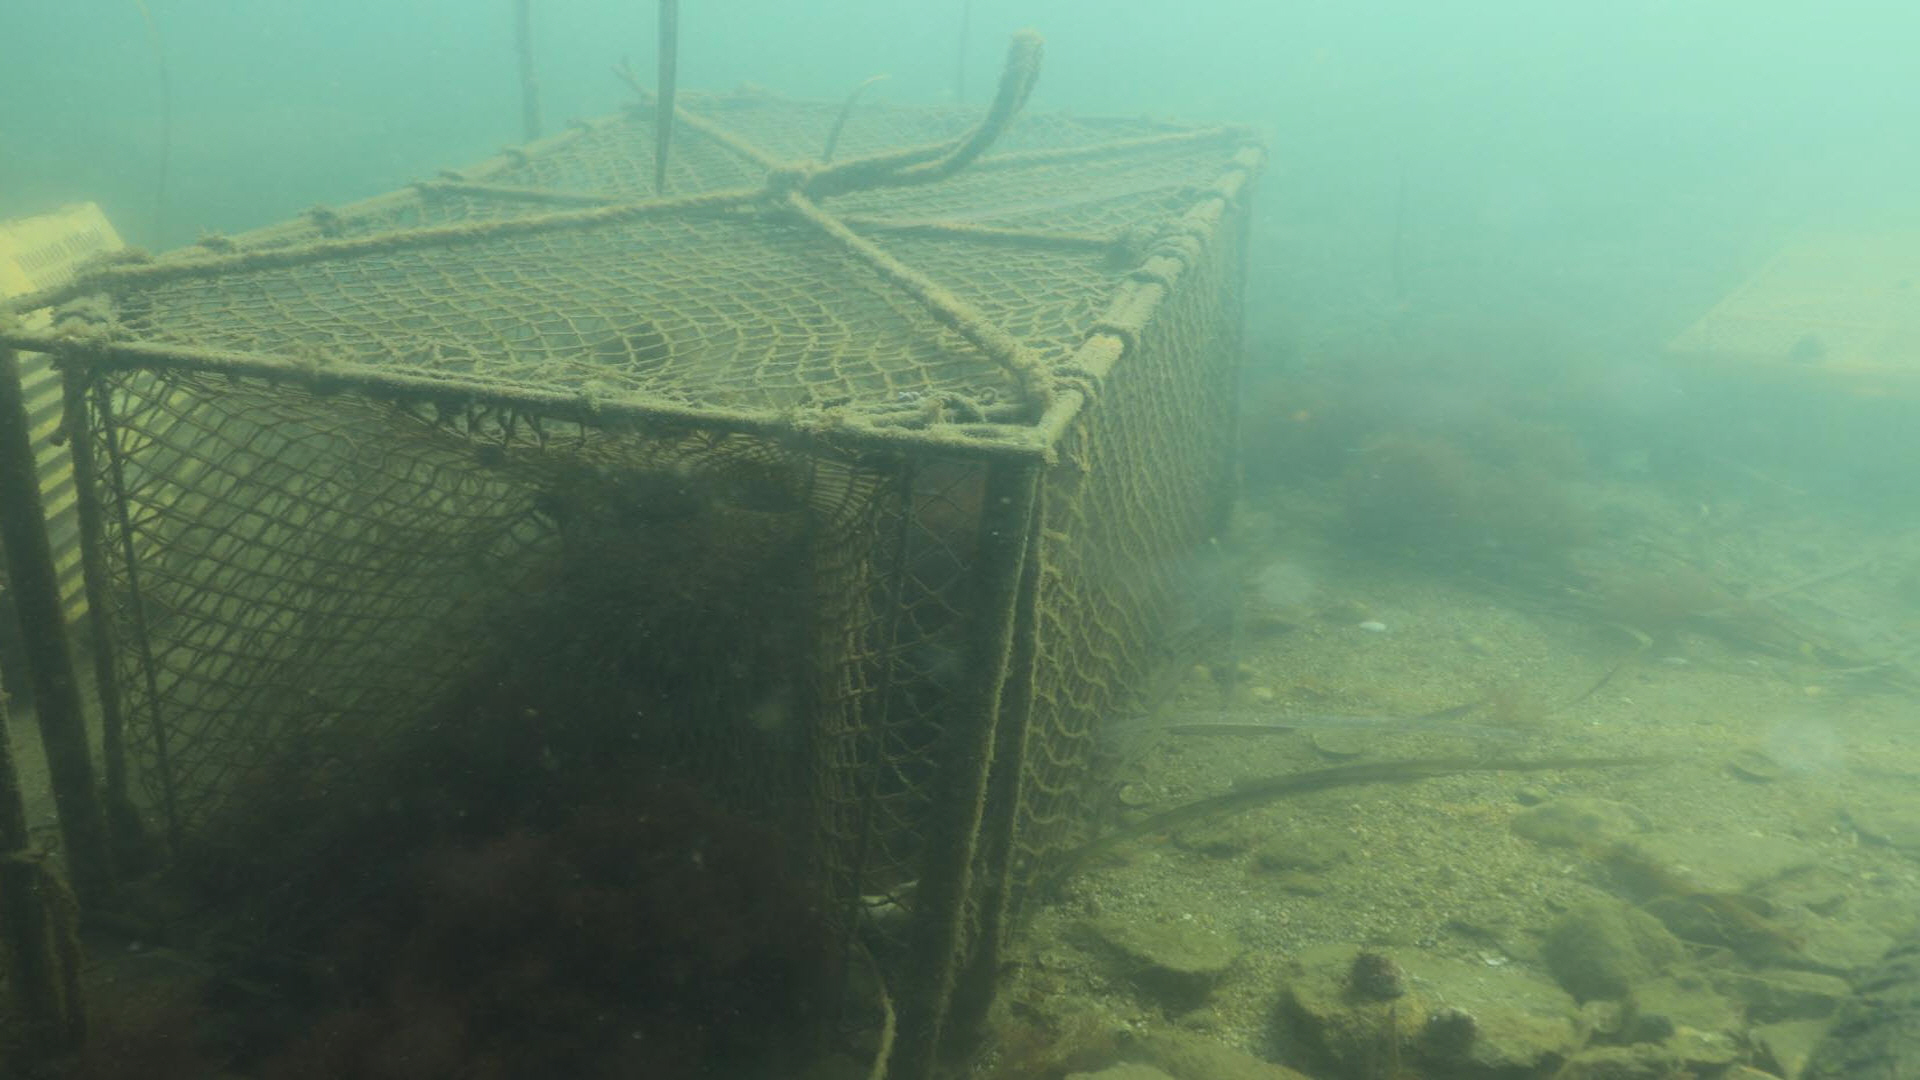bundle of ropes: (765, 22, 1042, 195)
rectangular fish trap: (0, 88, 1269, 1080)
